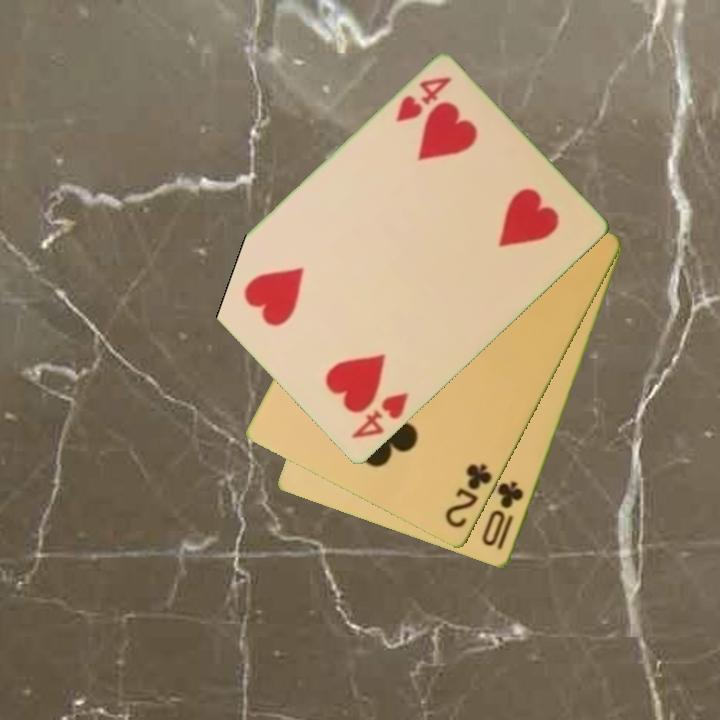10c: (479, 478, 527, 554)
2c: (441, 460, 496, 532)
4h: (348, 389, 412, 443), (392, 73, 455, 126)
